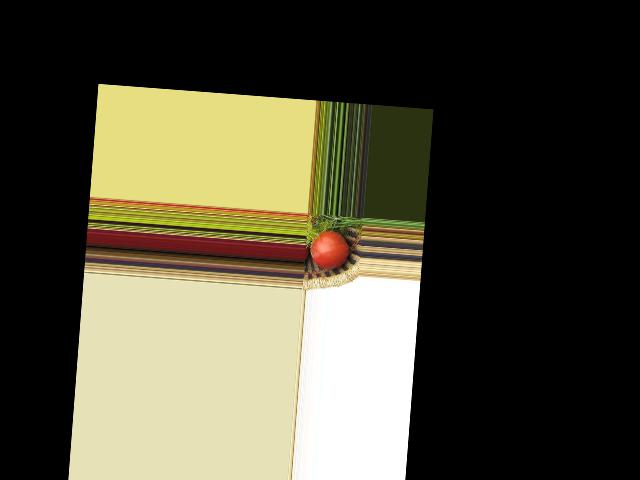tomato: (309, 228, 350, 270)
